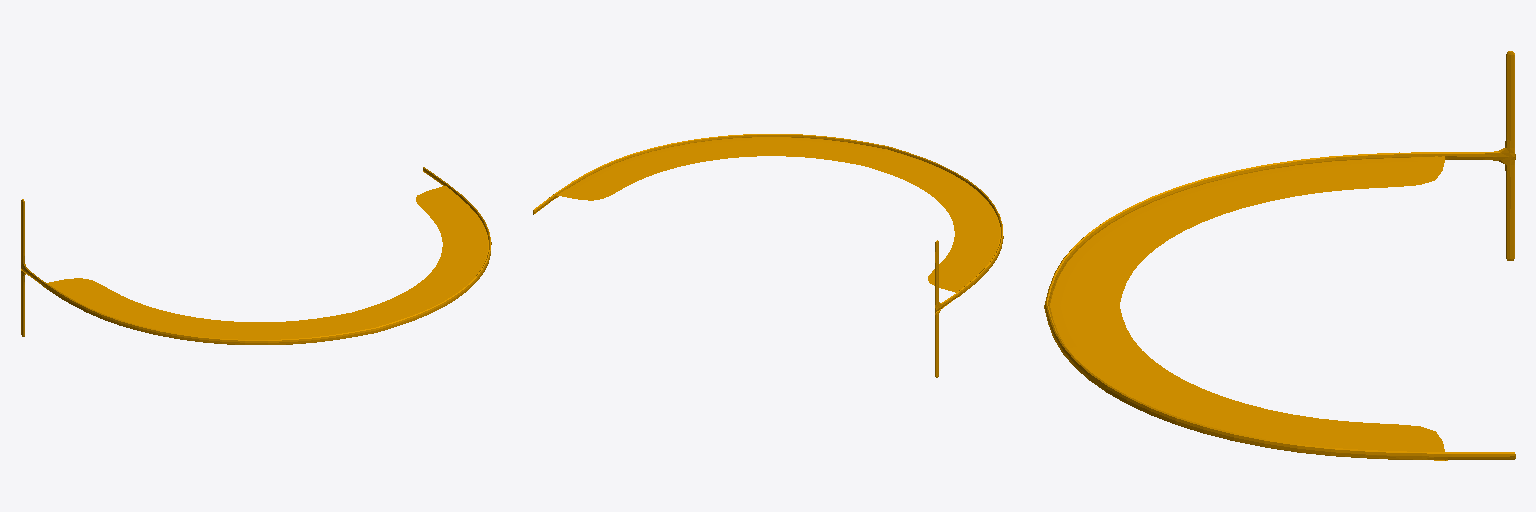
URDF robot description (arch1_6m):
<?xml version='1.0' encoding='UTF-8'?>
<robot name="arch1_6m">
  <link name="base_link">
    <visual name="base_link_visual">
      <geometry>
        <mesh filename="arch1.6X0.84.dae" scale="1. 1. 1."/>
      </geometry>
      <origin xyz="0 0 0" rpy="1.57 0 0"/>
    </visual>
    <collision name="base_link_collision">
      <geometry>
        <mesh filename="arch1.6X0.84.dae" scale="1. 1. 1."/>
      </geometry>
      <origin xyz="0 0 0" rpy="1.57 0 0"/>
    </collision>
  </link>
</robot>

--- What the picture shows (computed from the rendered views, not written in the file) ---
Views: 3 orthographic renders of the robot side by side, from view 1: azimuth 30°, elevation 25°; view 2: azimuth 150°, elevation 25°; view 3: azimuth 270°, elevation 25°.
Robot: arch1_6m — 1 links, 0 joints (none); root link base_link; default pose: all joints at 0.
Visible links, largest first — view 1: base_link; view 2: base_link; view 3: base_link.
Boxes of the visible links, left/top/right/bottom form: base_link: left=21, top=167, right=491, bottom=344; base_link: left=533, top=134, right=1003, bottom=377; base_link: left=1044, top=51, right=1515, bottom=460.
Bounding box of the posed robot: 3.21 × 2.12 × 1.04 m (x, y, z).
1 mesh visuals loaded from 1 distinct referenced files (1 Collada DAE).